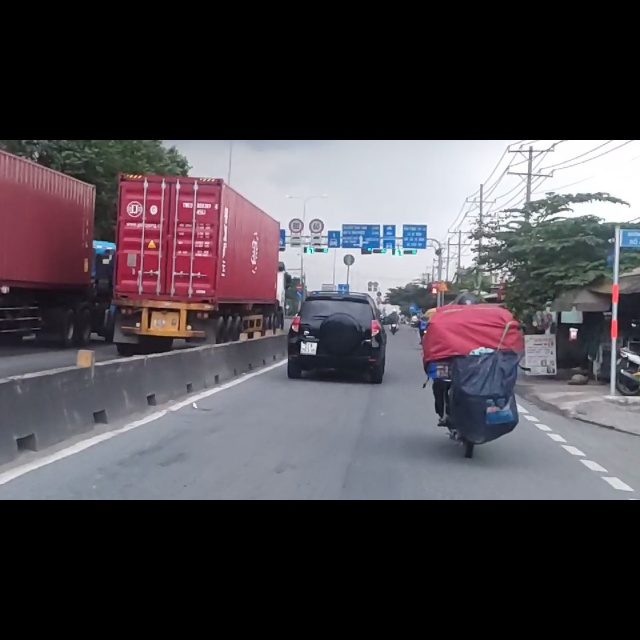bien_cam: (309, 139, 325, 168), (289, 140, 304, 166), (295, 256, 302, 268), (296, 269, 303, 281)
